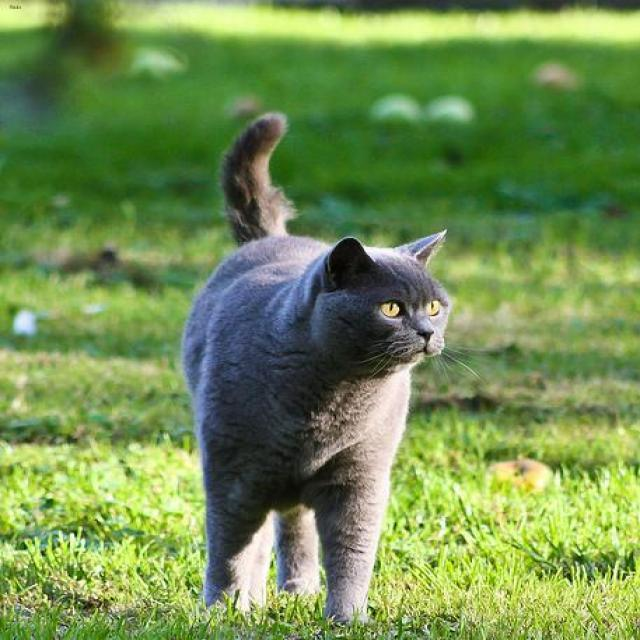cat: (182, 112, 451, 624)
